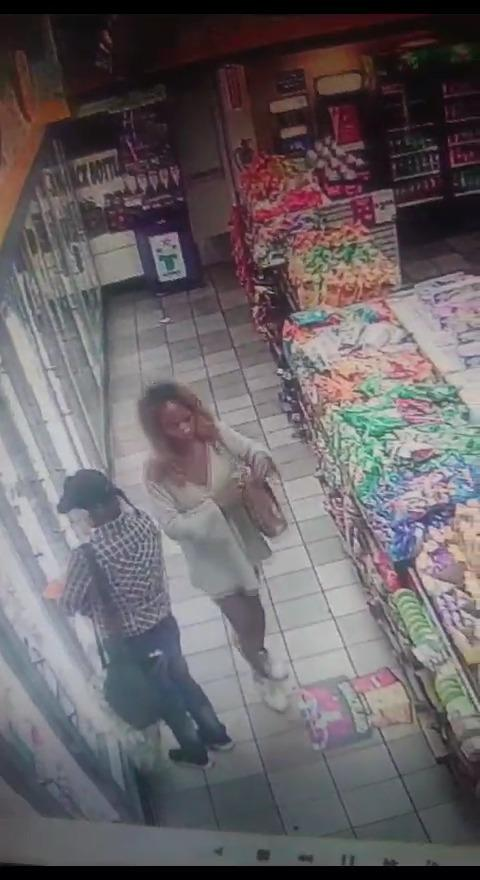Normal: (62, 485, 249, 813)
shoplifting: (148, 386, 290, 689)
